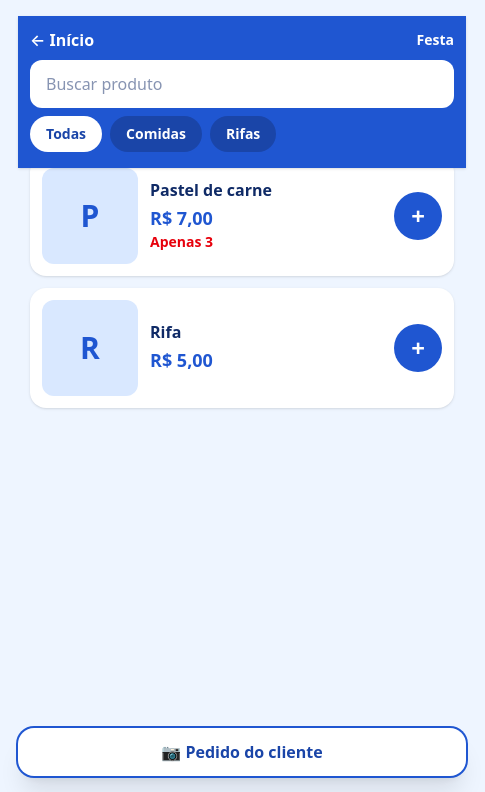
Test: PDV: adicionar e remover itens › tocar no cartão adiciona; − remove; barra da sacola acompanha
Click the text "Pastel de carne": (211, 190) [150,179,272,201]
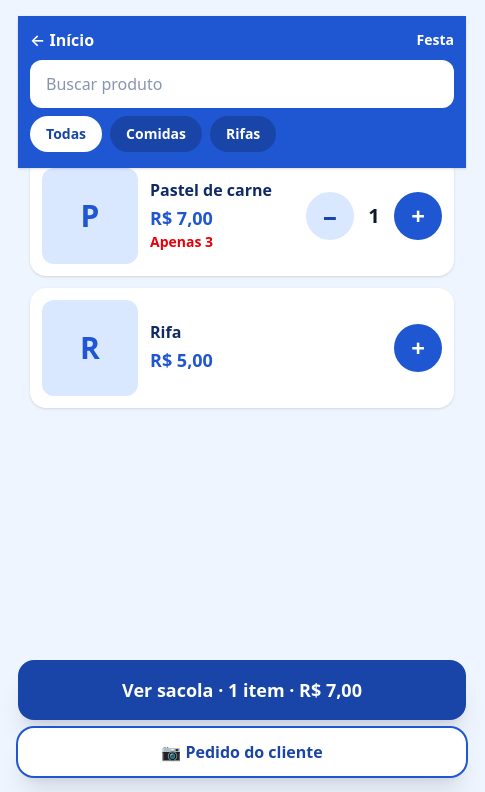
expect the button "Ver sacola · 1 item · R$ 7,00" is shown: met, box [18,660,466,720]
Click the button named "Mais": (418, 216) [394,192,442,240]
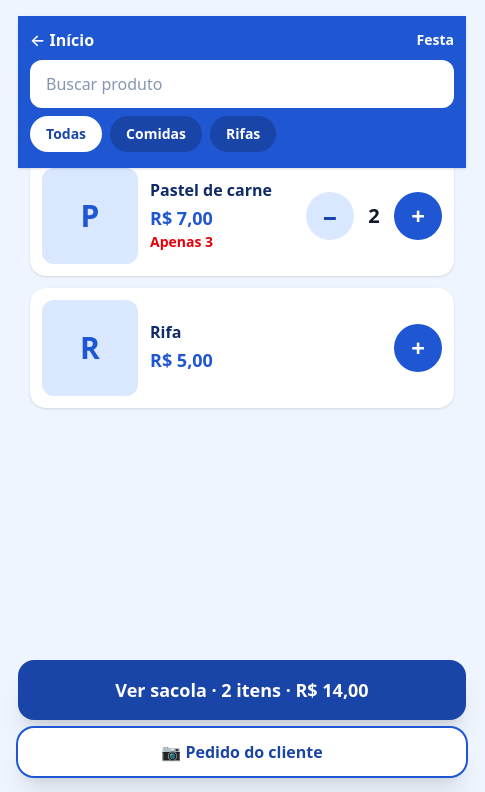
expect the button "Ver sacola · 2 itens · R$ 14,00" is shown: met, box [18,660,466,720]
Click the button named "Menos": (330, 216) [306,192,354,240]
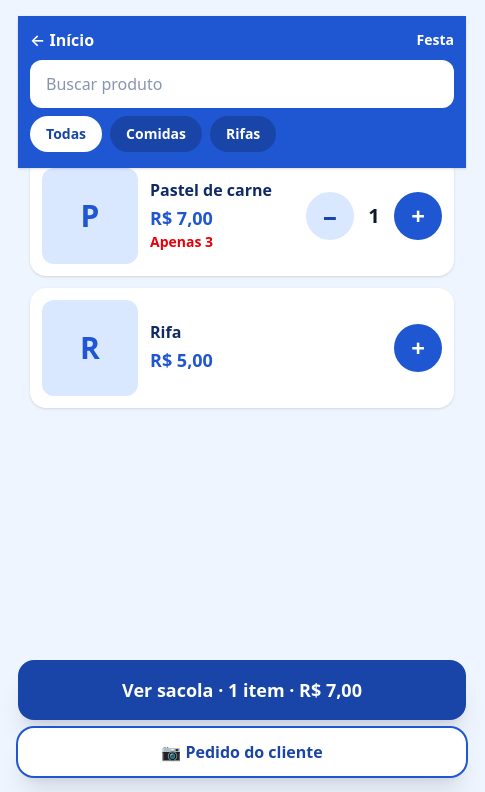
expect the button "Ver sacola · 1 item · R$ 7,00" is shown: met, box [18,660,466,720]
Click the button named "Menos": (330, 216) [306,192,354,240]
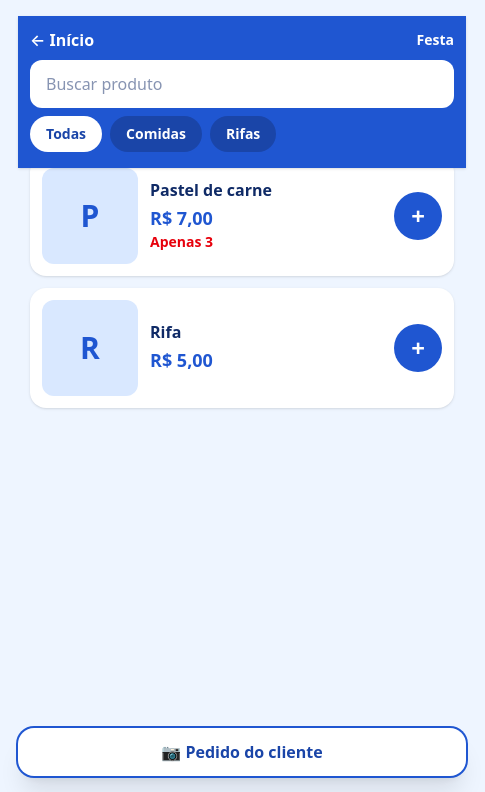
expect the button "Ver sacola" is gone: met
